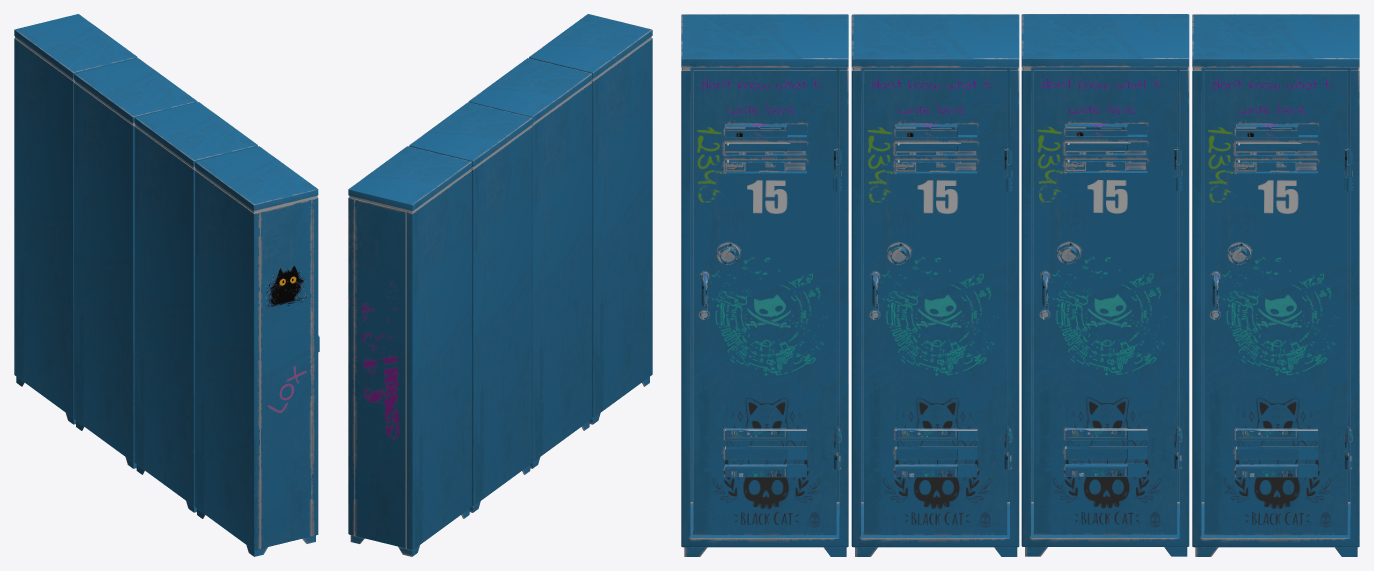
The model's file is LOCKER 3.fbx.
3 renders of one model, left to right at view 1: azimuth 30°, elevation 25°; view 2: azimuth 150°, elevation 25°; view 3: azimuth 270°, elevation 25°, orthographic. The views are drawn at different scales.
Parts seen in each view (by area): view 1: Куб.001, Куб.006, Куб.003, Куб.008; view 2: Куб.008, Куб.003, Куб.001, Куб.006; view 3: Куб.006, Куб.003, Куб.001, Куб.008, Куб.007, Куб.009, Куб.010, Куб.005.
Boxes of the visible parts, left/top/right/bottom form: Куб.001: left=195, top=146, right=318, bottom=556; Куб.006: left=134, top=102, right=257, bottom=512; Куб.003: left=74, top=58, right=197, bottom=468; Куб.008: left=14, top=14, right=137, bottom=424; Куб.008: left=348, top=146, right=471, bottom=556; Куб.003: left=409, top=102, right=532, bottom=512; Куб.001: left=529, top=14, right=652, bottom=424; Куб.006: left=468, top=58, right=592, bottom=468; Куб.006: left=851, top=14, right=1019, bottom=556; Куб.003: left=1021, top=14, right=1189, bottom=556; Куб.001: left=681, top=14, right=848, bottom=556; Куб.008: left=1192, top=14, right=1359, bottom=556; Куб.007: left=895, top=124, right=977, bottom=476; Куб.009: left=1236, top=124, right=1317, bottom=476; Куб.010: left=725, top=124, right=806, bottom=476; Куб.005: left=1065, top=124, right=1147, bottom=476.
Size of the model in its own units: 2902 by 13168 by 16221.
Materials: 20 (20 with a texture image).
